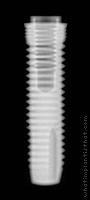Euroteknika: (24, 16, 67, 186)
